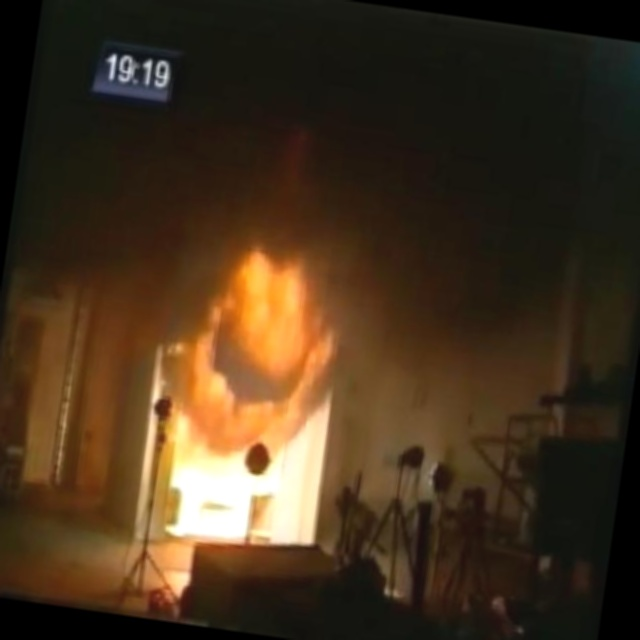fire: (169, 225, 367, 448)
